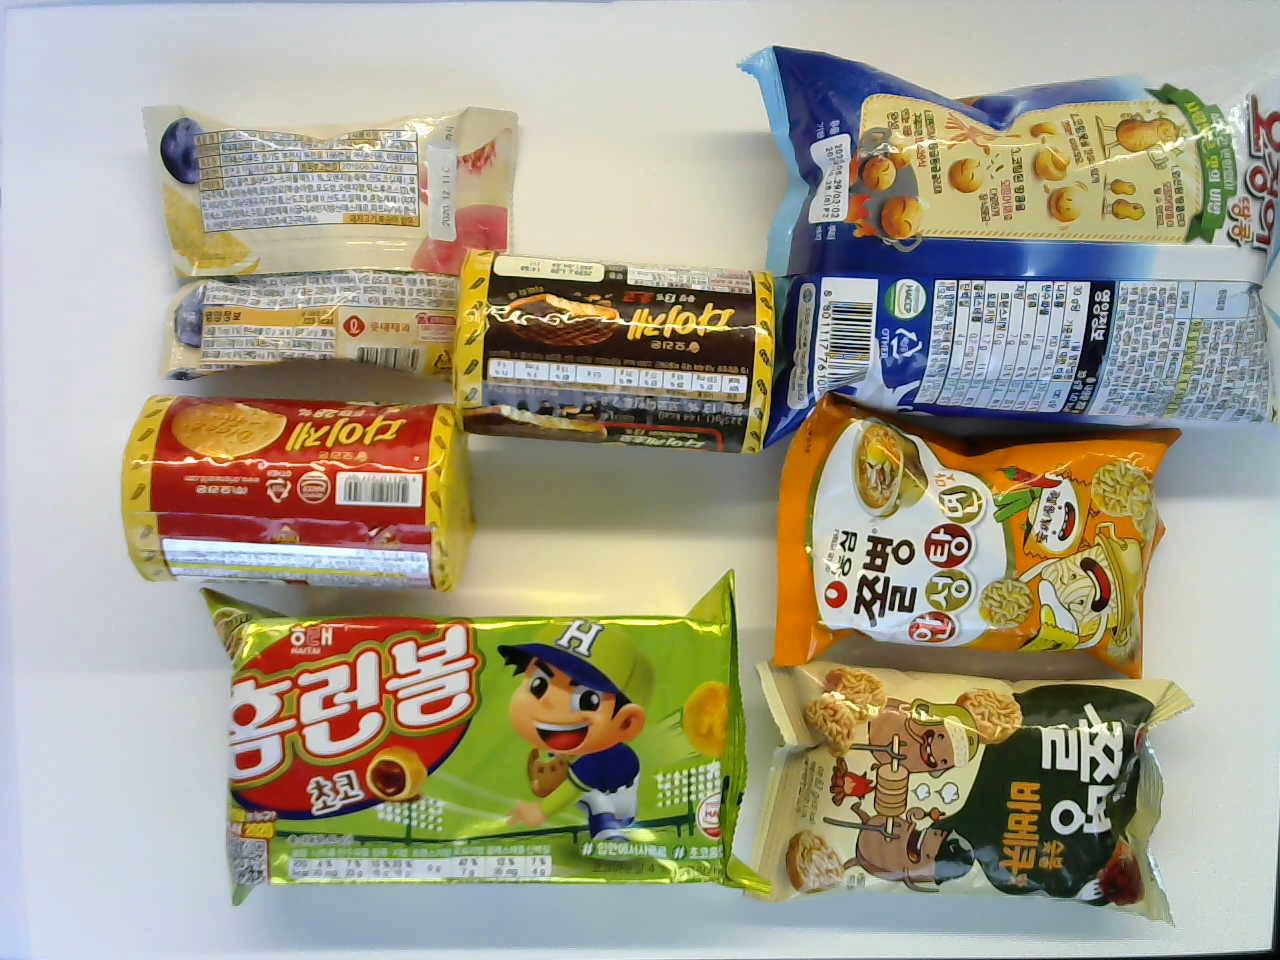diget_choco: (445, 245, 783, 460)
diget_ori: (122, 394, 471, 592)
gumi_gumi: (138, 101, 522, 387)
homerunball: (197, 566, 766, 919)
jjolbyung_noodle: (754, 390, 1185, 687)
jjolbyung_ori: (750, 652, 1198, 930)
squid_peanut: (734, 36, 1280, 447)
